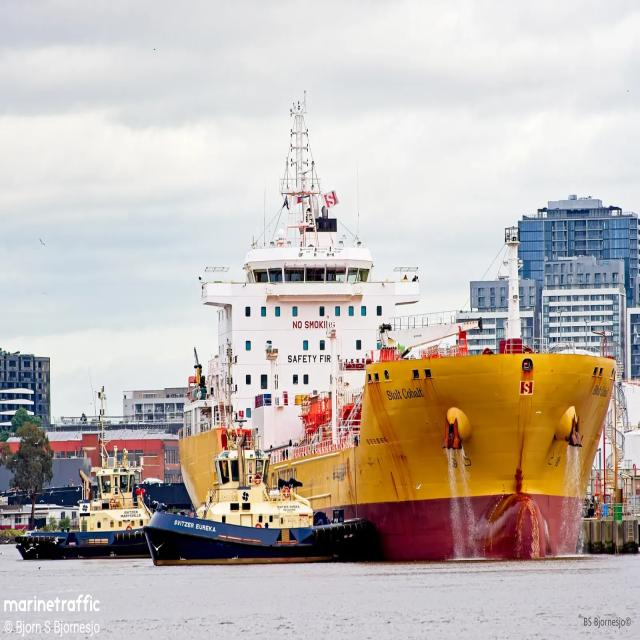Tanker: (180, 103, 615, 559)
Tug: (145, 440, 370, 564), (20, 416, 151, 559)
